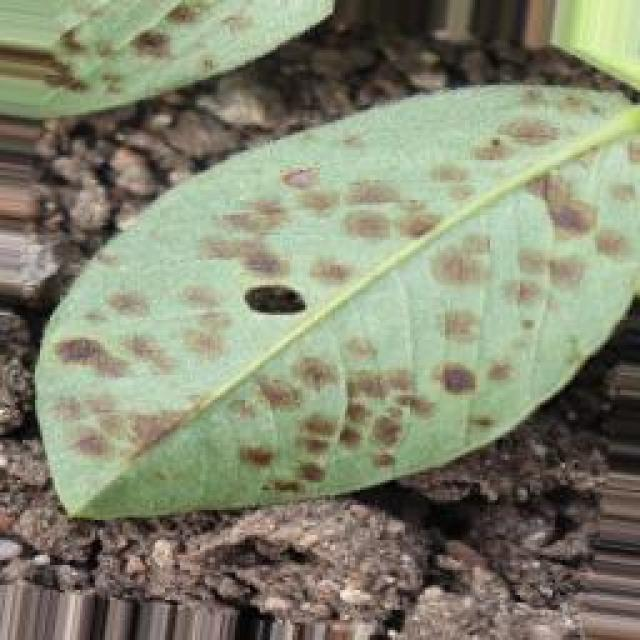Whitefly: (0, 0, 627, 547)
